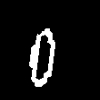chain: (29, 29, 54, 86)
